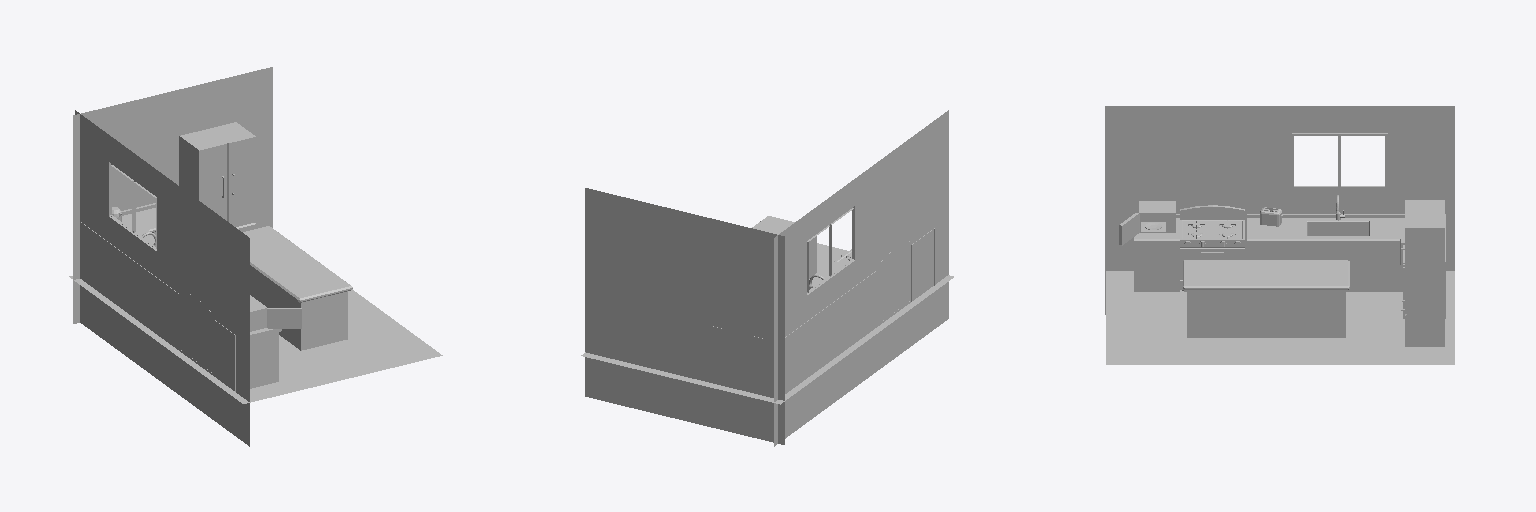
The model's file is kitchenmap4.obj.
3 renders of one model, left to right at view 1: azimuth 30°, elevation 25°; view 2: azimuth 150°, elevation 25°; view 3: azimuth 270°, elevation 25°, orthographic.
Parts seen in each view (by area): view 1: Left_Wall, Right_Wall, Floor, Island, Fridge, Counter_Left, Counter_Corner, Microwave_Door; view 2: Right_Wall, Left_Wall, Floor, Island; view 3: Left_Wall, Floor, Island, Counter_Corner, Fridge, Oven, Counter_Left, Microwave, Sink_Basin.
Boxes of the visible parts, x1=… form: Left_Wall: x1=75, y1=110, x2=249, y2=446; Right_Wall: x1=73, y1=67, x2=272, y2=323; Floor: x1=69, y1=276, x2=442, y2=403; Island: x1=243, y1=226, x2=352, y2=350; Fridge: x1=179, y1=122, x2=255, y2=231; Counter_Left: x1=215, y1=320, x2=281, y2=391; Counter_Corner: x1=81, y1=203, x2=178, y2=293; Microwave_Door: x1=267, y1=308, x2=301, y2=328; Right_Wall: x1=585, y1=188, x2=784, y2=444; Left_Wall: x1=774, y1=110, x2=948, y2=446; Floor: x1=581, y1=243, x2=953, y2=404; Island: x1=752, y1=216, x2=816, y2=278; Left_Wall: x1=1105, y1=106, x2=1454, y2=314; Floor: x1=1106, y1=271, x2=1454, y2=364; Island: x1=1183, y1=260, x2=1349, y2=337; Counter_Corner: x1=1247, y1=214, x2=1445, y2=318; Fridge: x1=1405, y1=200, x2=1444, y2=346; Oven: x1=1180, y1=205, x2=1244, y2=291; Counter_Left: x1=1134, y1=214, x2=1179, y2=291; Microwave: x1=1139, y1=201, x2=1175, y2=232; Sink_Basin: x1=1307, y1=221, x2=1369, y2=235.
Bounding box in the file's own units: 56.58 × 56.61 × 85.8.